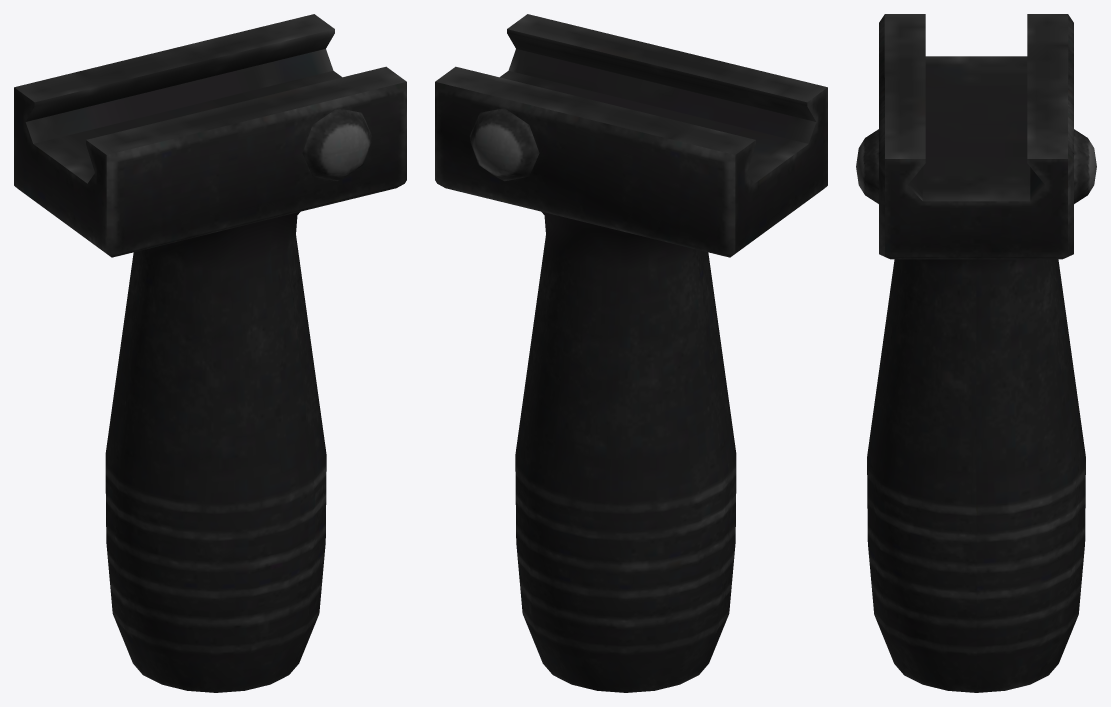
Rendered from ST_Grip_Vector.FBX.
3 views of the same model, side by side, from view 1: azimuth 30°, elevation 25°; view 2: azimuth 150°, elevation 25°; view 3: azimuth 270°, elevation 25° (orthographic).
Parts seen in each view (by area): view 1: ST_Grip_Vector; view 2: ST_Grip_Vector; view 3: ST_Grip_Vector.
Part boxes in pixels (<box>): ST_Grip_Vector: <box>14,14,406,692</box>; ST_Grip_Vector: <box>435,14,827,692</box>; ST_Grip_Vector: <box>856,14,1096,692</box>.
Bounding box in the file's own units: 5.35 × 9.76 × 3.75.
1 material, 1 textured.
